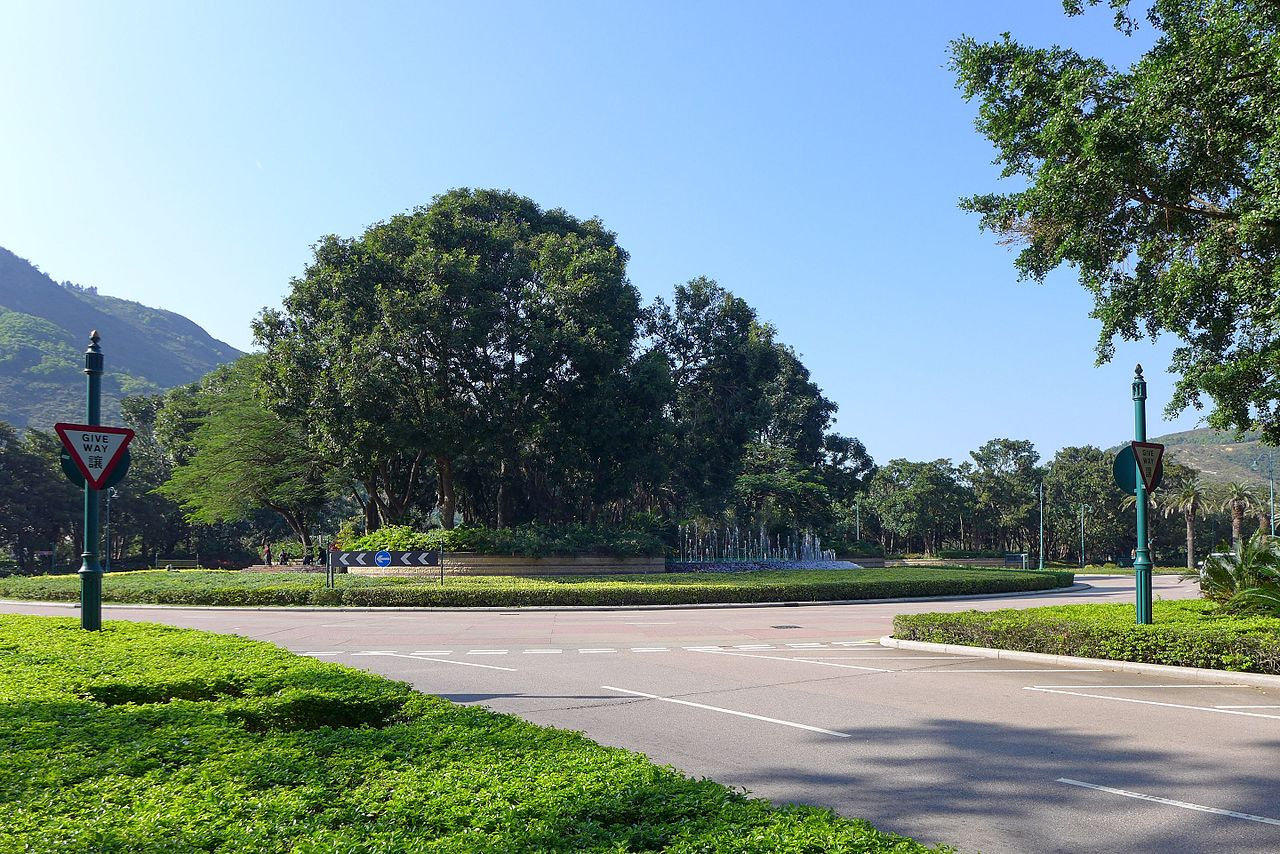Give Way: (58, 427, 130, 496), (1125, 441, 1163, 492)
